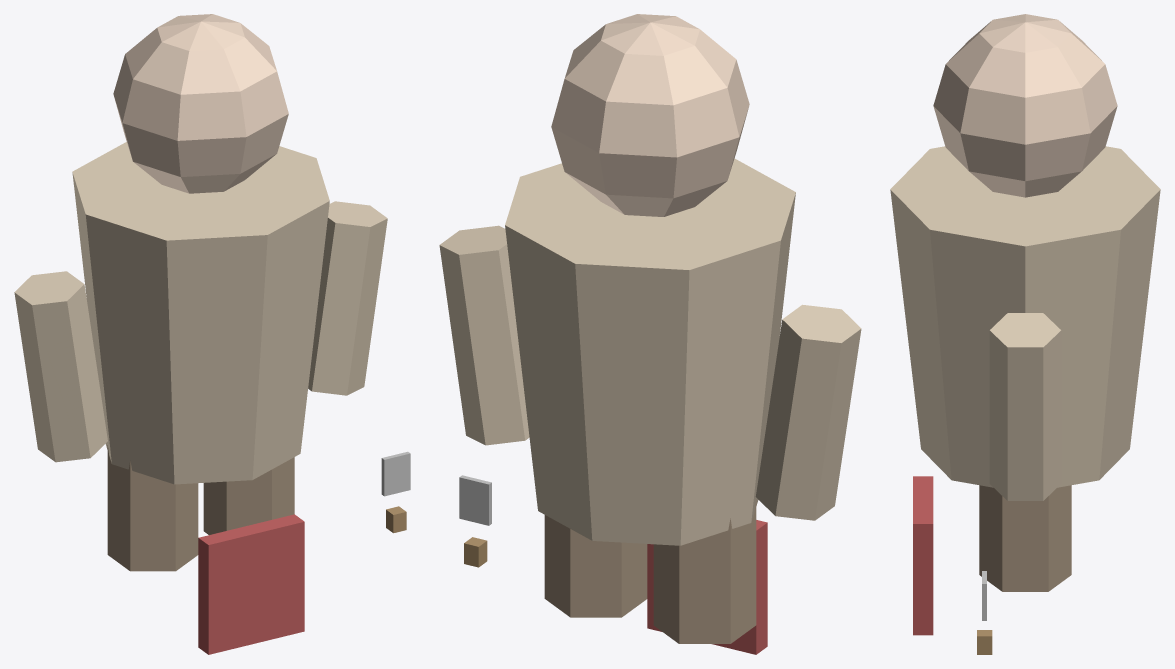
The model's file is butcher.glb.
3 renders of one model, left to right at view 1: azimuth 30°, elevation 25°; view 2: azimuth 150°, elevation 25°; view 3: azimuth 270°, elevation 25°, orthographic. The views are drawn at different scales.
Visible parts, largest first — view 1: butcher; view 2: butcher; view 3: butcher.
Part boxes in pixels (x1,y1,x2,y2): butcher: (14, 14, 410, 654); butcher: (439, 14, 861, 654); butcher: (890, 14, 1160, 654).
Bounding box in the file's own units: 0.4184 × 0.635 × 0.264.
